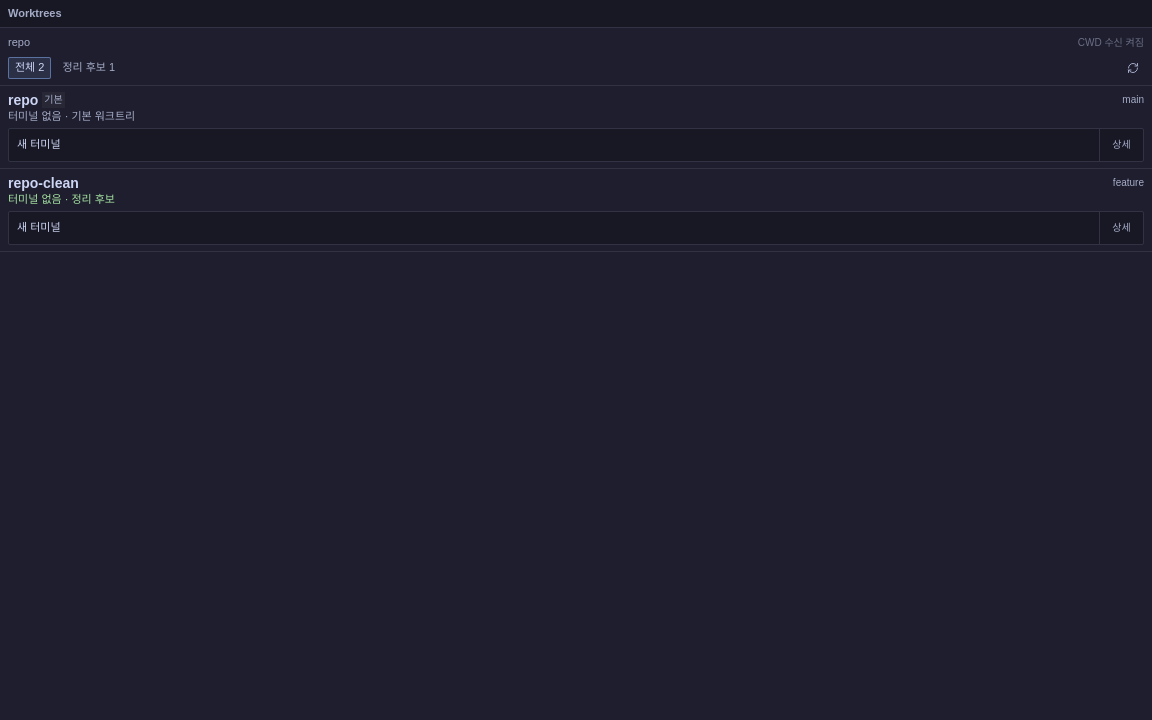
it: WorktreeView › 목록 갱신 실패는 이전 상세를 유지하며 제거를 막고 검사 중 상태를 끝낸다
This screenshot has width=1152, height=720.
Click the button "상세" below "feature" at (1121, 228), box [1099,212,1143,244]
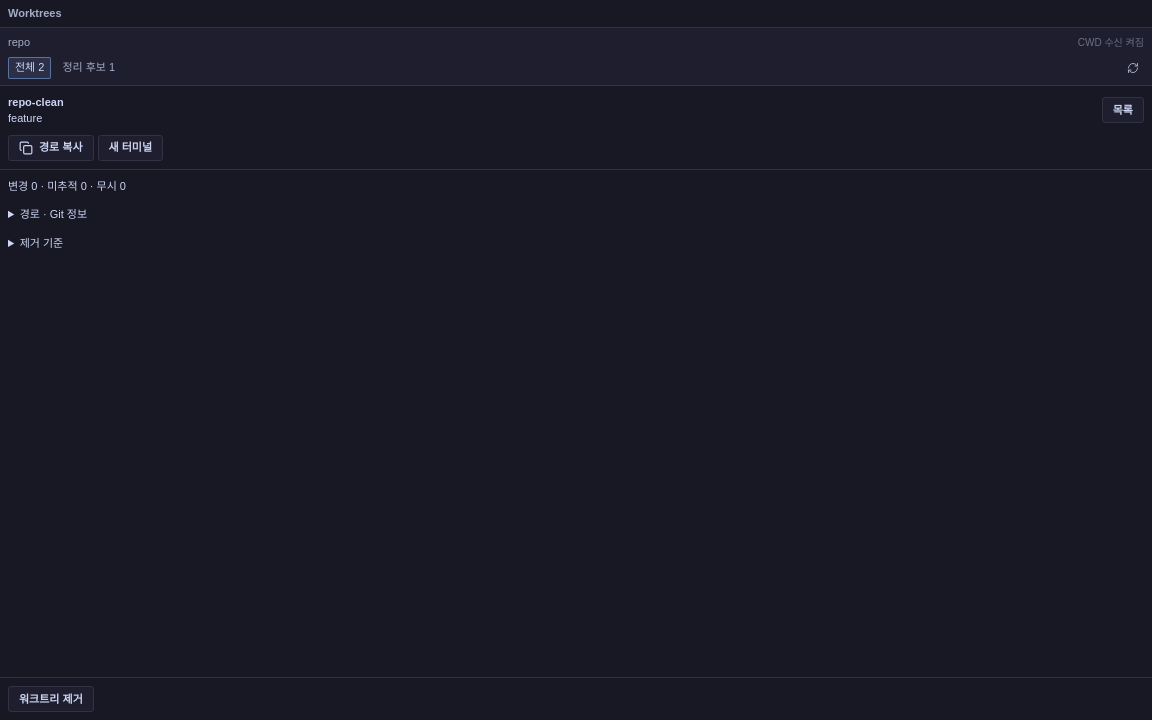
Expected: the element with test id "worktree-detail-summary" is shown, [8,180,126,192]
Click the button named "워크트리 새로고침" at (1133, 68), box [1122,56,1144,78]
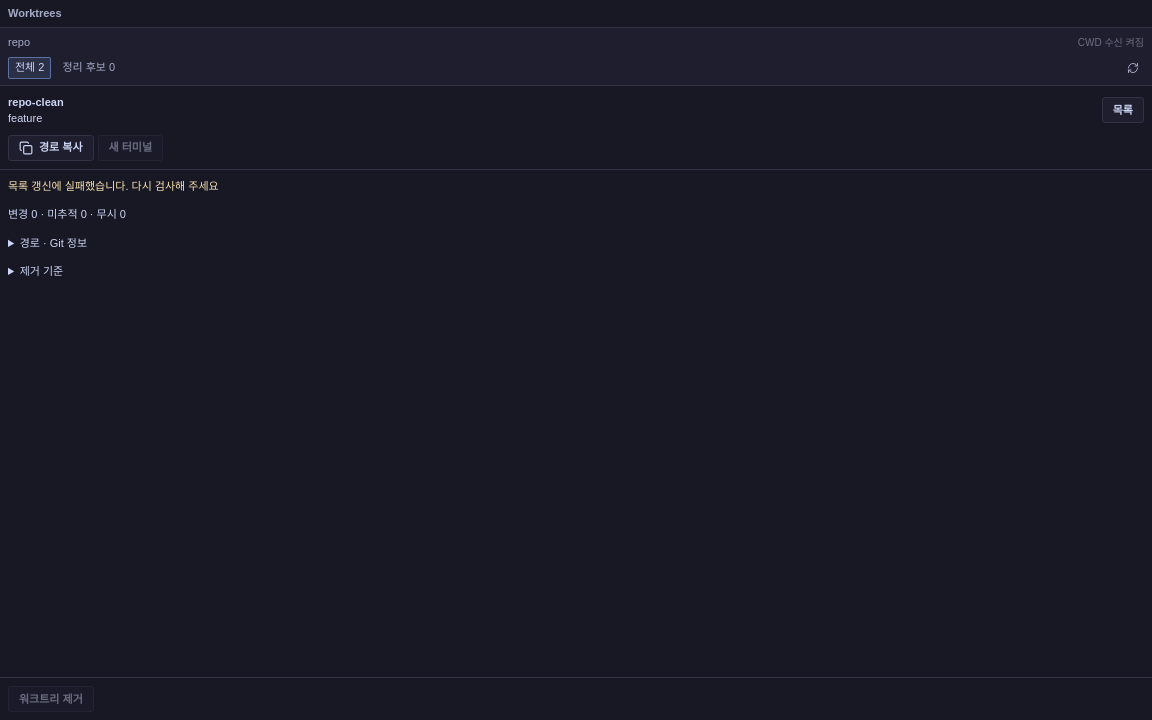
Expected: the element with test id "worktree-detail" is shown
Expected: the button "워크트리 제거" is disabled, [8,686,94,712]
